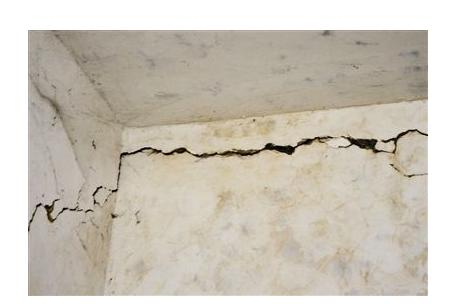crack: (110, 134, 428, 179)
